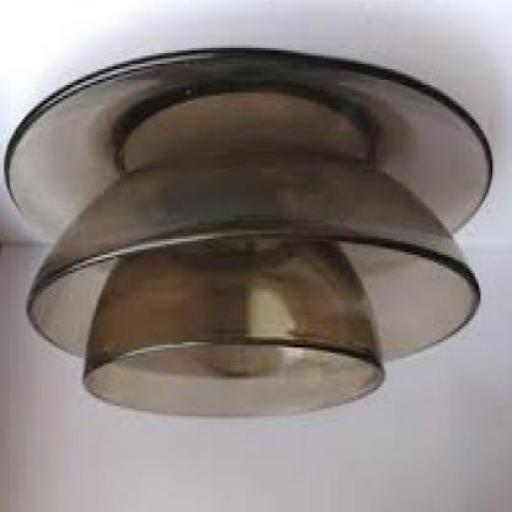glass: (27, 162, 483, 376), (6, 48, 494, 239), (86, 233, 387, 419)
